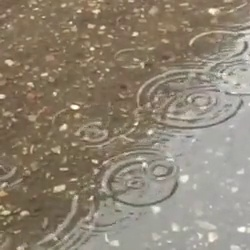drop: (190, 30, 247, 60), (212, 59, 250, 98), (80, 121, 110, 146), (115, 47, 148, 69), (148, 160, 178, 182), (1, 159, 24, 185), (190, 93, 215, 108), (127, 176, 145, 190)
